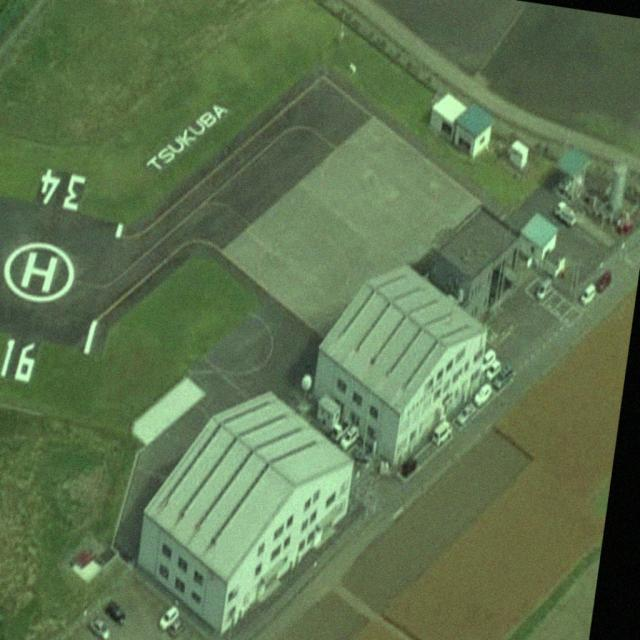helipad: (2, 240, 72, 303)
